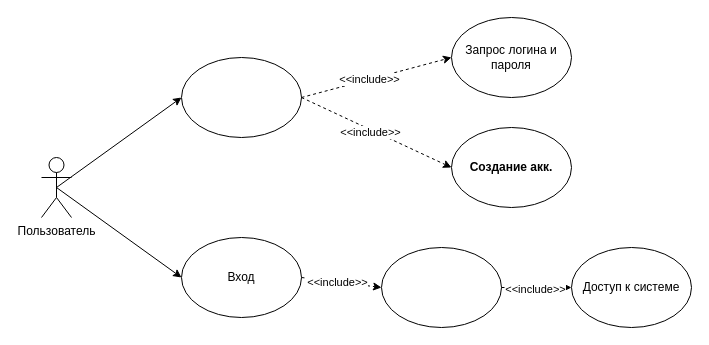
Some shapes in this 709 by 345 pixel diagram are drawn without their labels. Each missing label, with the centre of its shape:
Проверка логина и пароля: (x=441, y=287)
Создать акк: (x=241, y=97)
